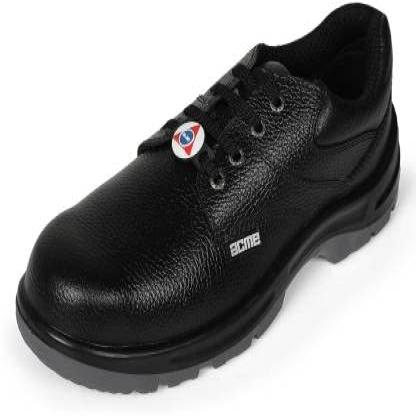bota: (12, 0, 403, 402)
